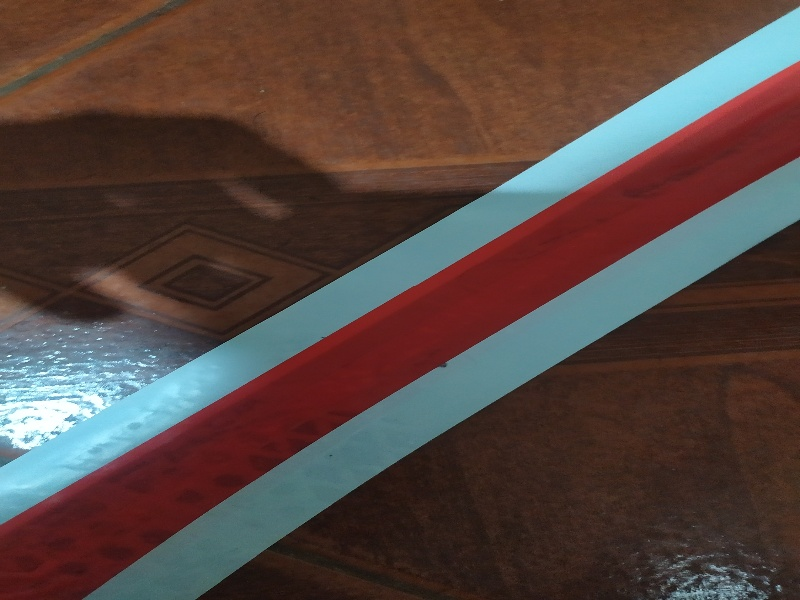saindoEsquerda: (2, 13, 800, 595)
